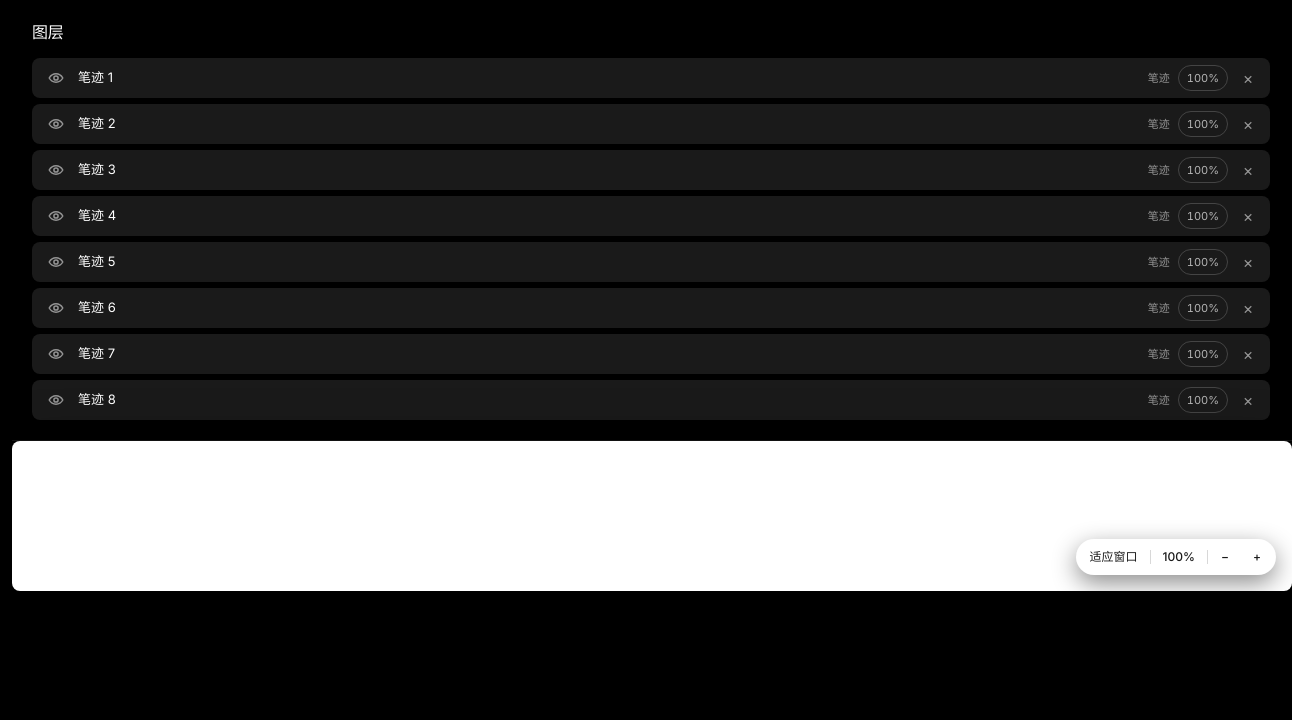
Test: 图层命名唯一 › 8 层删掉第 4 层再画，新图层是「笔迹 9」，已有图层不改名
This screenshot has width=1292, height=720.
What coordinates should you click on to do the following:
click the button named "删除 笔迹 4"
I would click on:
 (1248, 216)
Its box is [1236,204,1260,228].
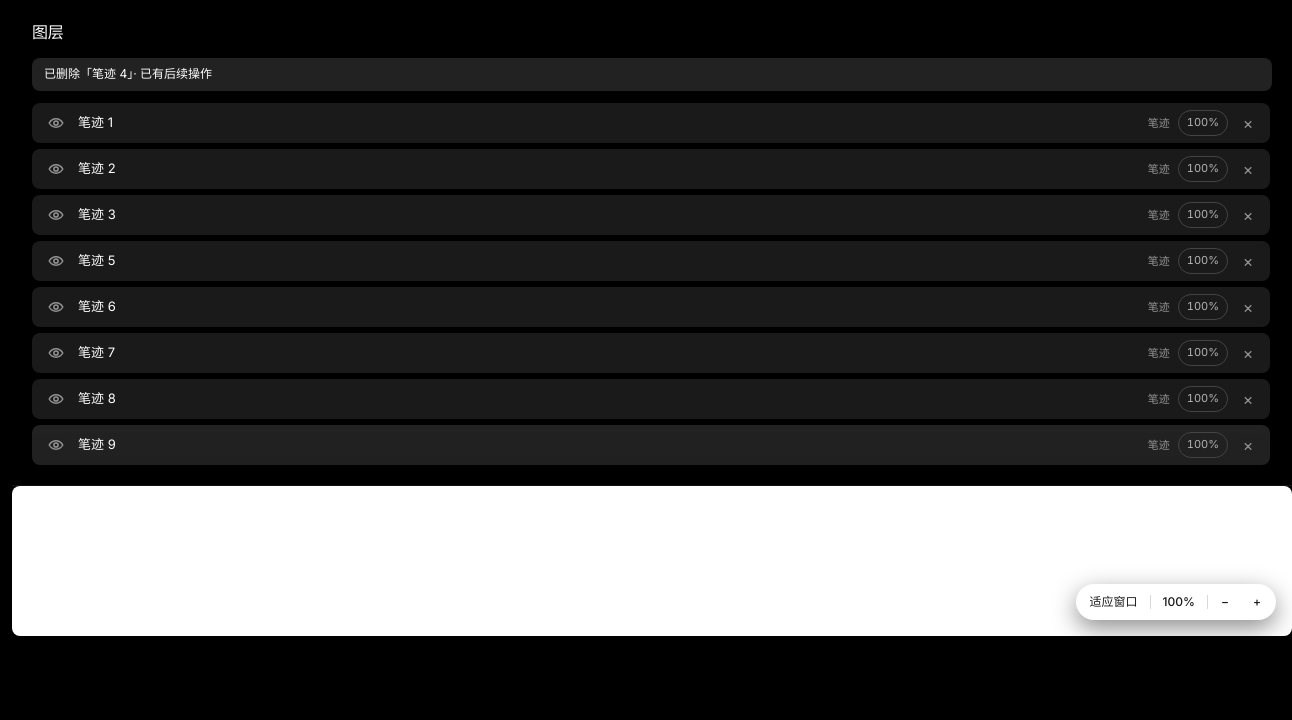
Expected: the text "笔迹 9" is shown, [78,436,116,452]
